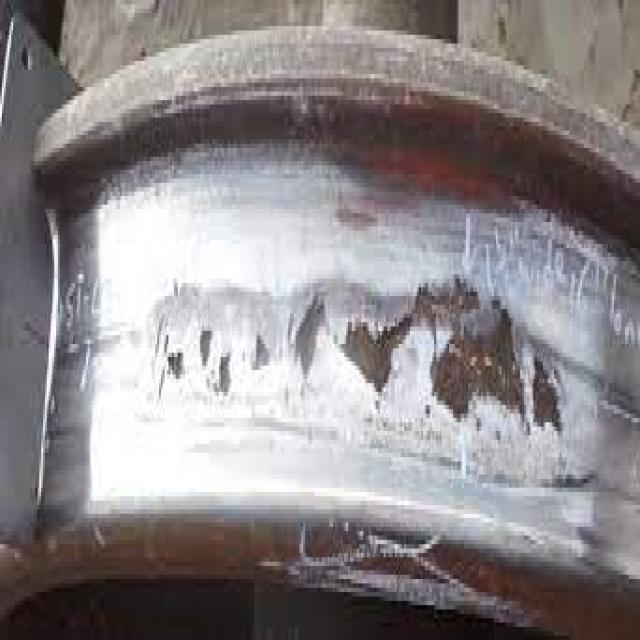Peeling: (304, 176, 588, 508)
